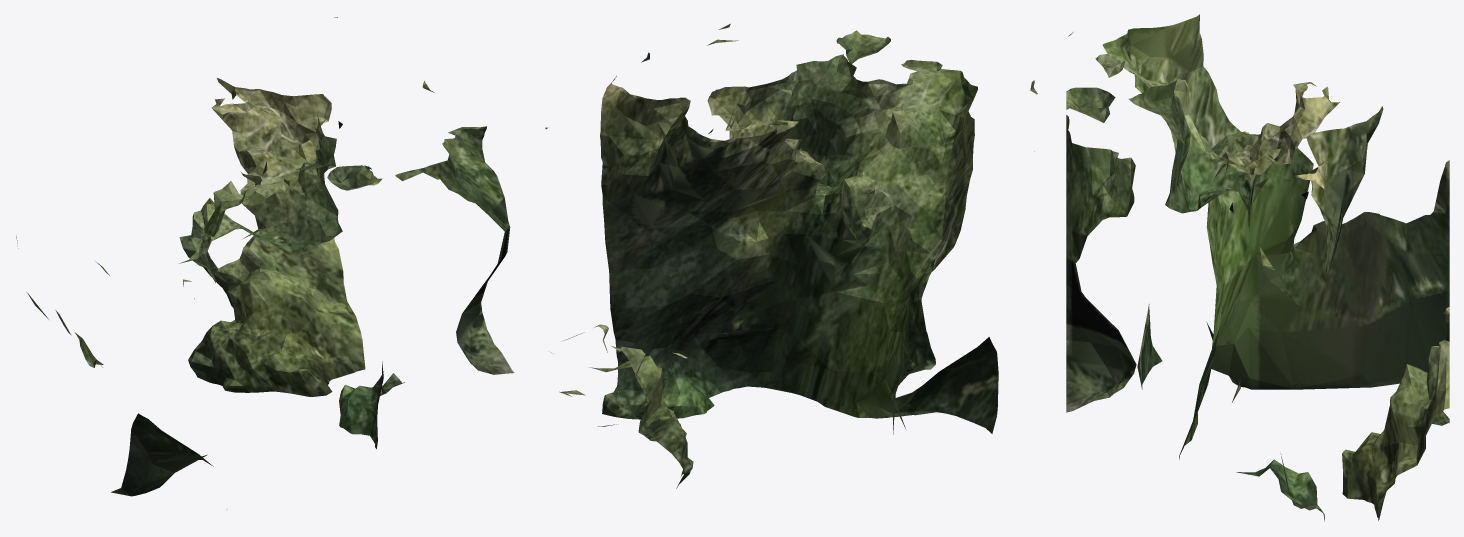
3 views of the same model, side by side, from view 1: azimuth 30°, elevation 25°; view 2: azimuth 150°, elevation 25°; view 3: azimuth 270°, elevation 25° (orthographic). The views are drawn at different scales.
Bounding box in the file's own units: 11.8 × 11.8 × 11.8.
5 materials, 5 textured.
